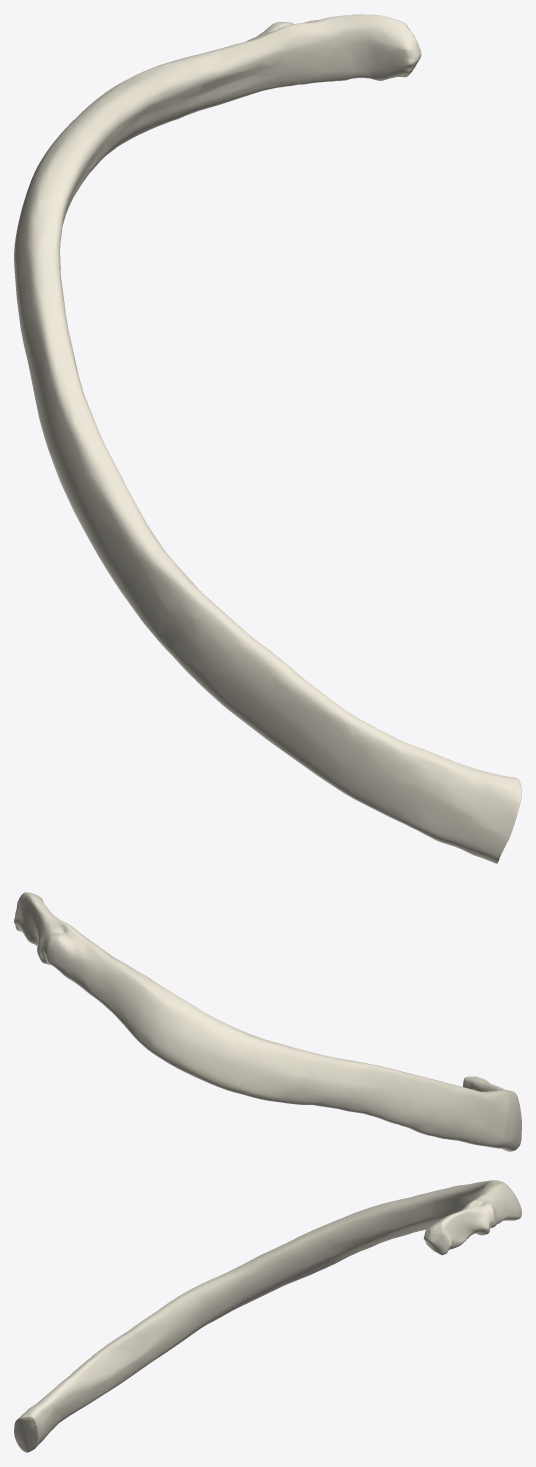
The picture shows the model from 3 angles, top to bottom: view 1: azimuth 30°, elevation 25°; view 2: azimuth 150°, elevation 25°; view 3: azimuth 270°, elevation 25°; orthographic projection. The views are drawn at different scales.
Parts seen in each view (by area): view 1: ZA_07750711de28802c; view 2: ZA_07750711de28802c; view 3: ZA_07750711de28802c.
Boxes of the visible parts, box(x1,y1,x2,y2) form: ZA_07750711de28802c: box(14, 14, 521, 863); ZA_07750711de28802c: box(14, 892, 521, 1151); ZA_07750711de28802c: box(14, 1180, 521, 1452).
Size of the model in its own units: 0.1158 by 0.126 by 0.1893.
